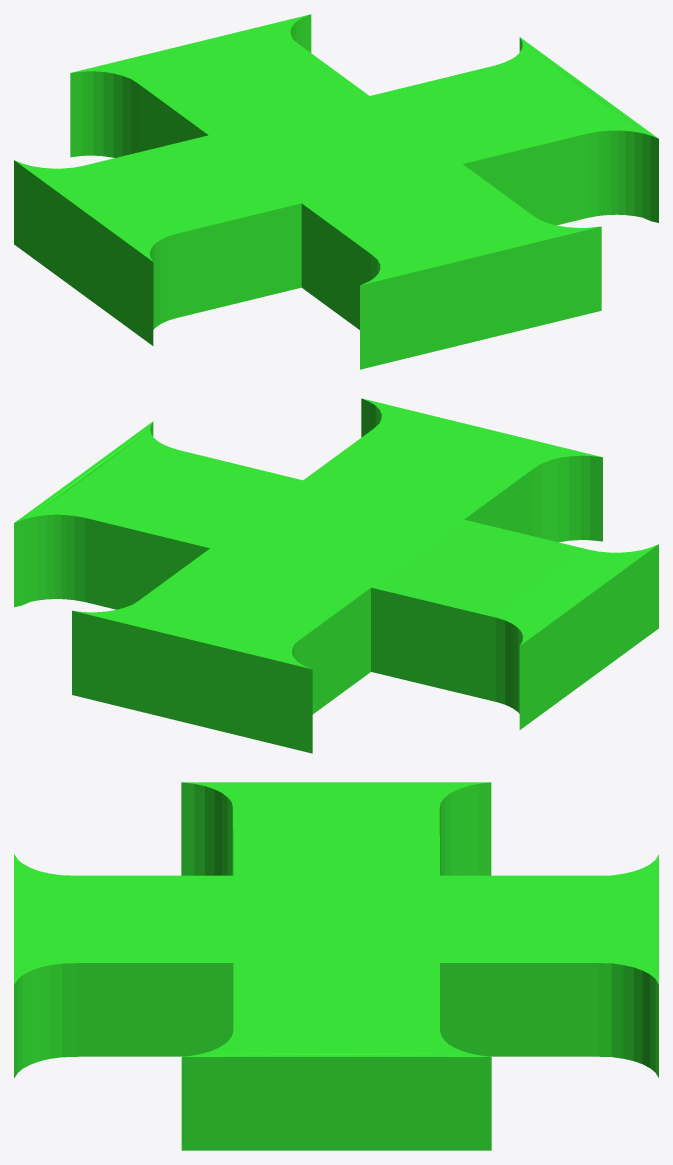
The model's file is vaisseau_heal.glb.
The picture shows the model from 3 angles, top to bottom: view 1: azimuth 30°, elevation 25°; view 2: azimuth 150°, elevation 25°; view 3: azimuth 270°, elevation 25°; orthographic projection. The views are drawn at different scales.
Visible parts, largest first — view 1: Cube; view 2: Cube; view 3: Cube.
Part boxes in pixels (left/top/right/bottom): Cube: left=14, top=14, right=658, bottom=369; Cube: left=14, top=398, right=658, bottom=753; Cube: left=14, top=782, right=658, bottom=1150.
Bounding box in the file's own units: 12.57 × 2.04 × 12.49.
1 material, 1 textured.
